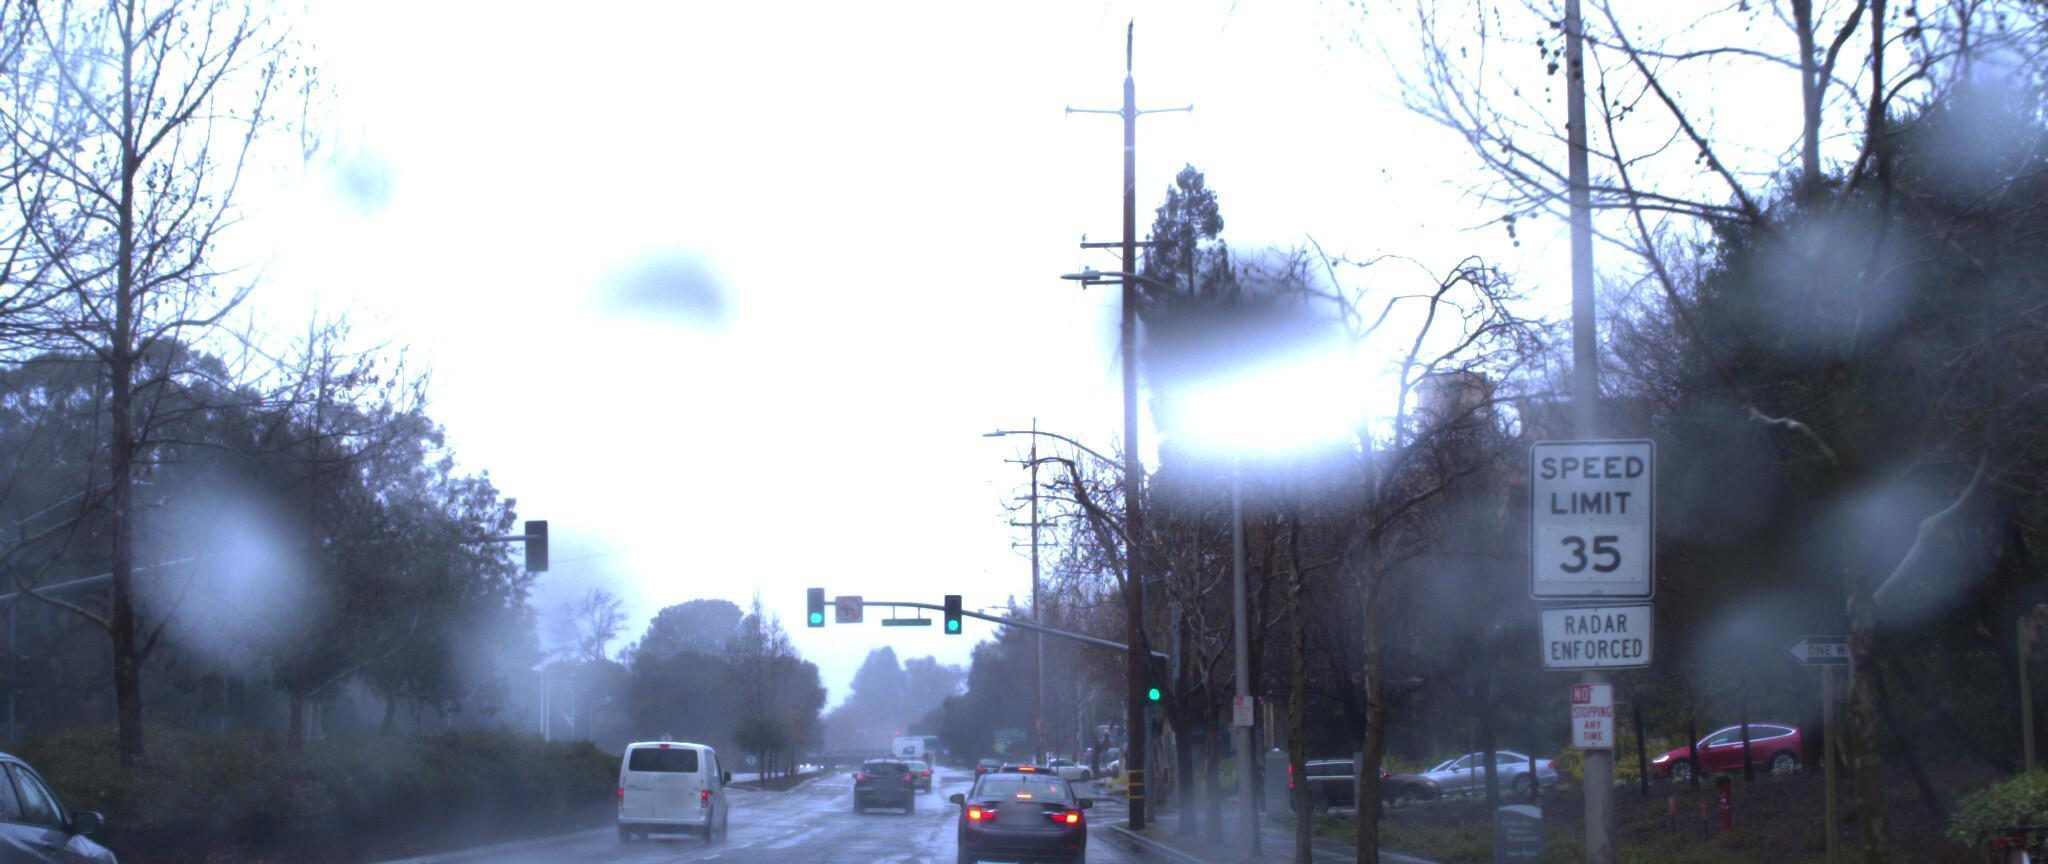car: (0, 724, 150, 864), (943, 761, 1081, 864), (606, 722, 728, 820)
